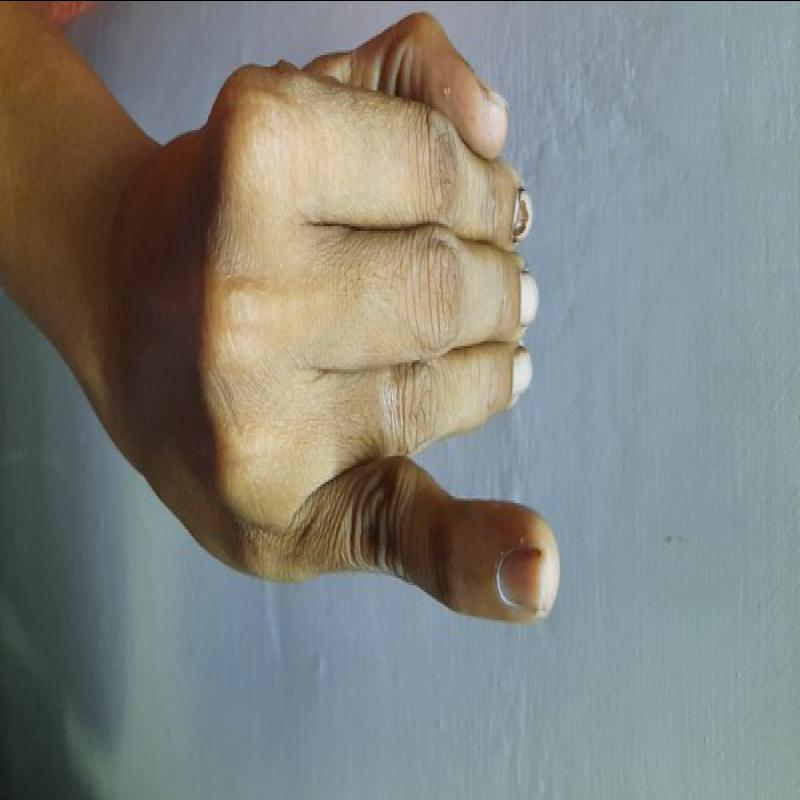Kartharee Mukham: (102, 6, 598, 639)
